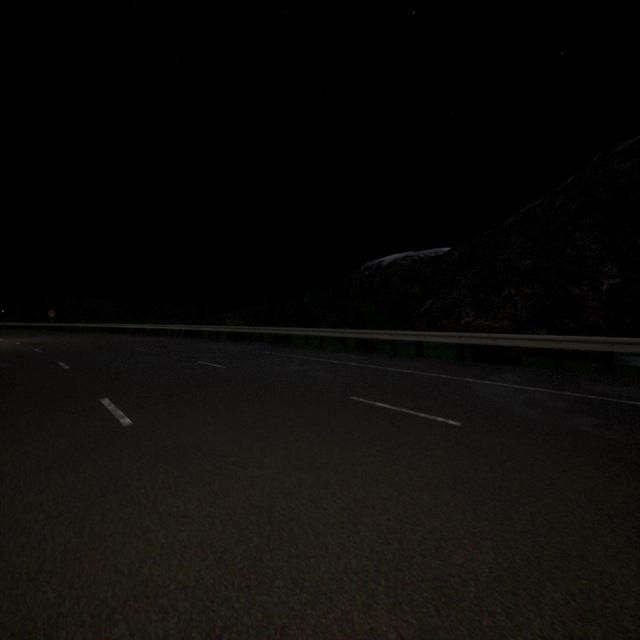Traffic_Signs: (48, 311, 55, 317)
